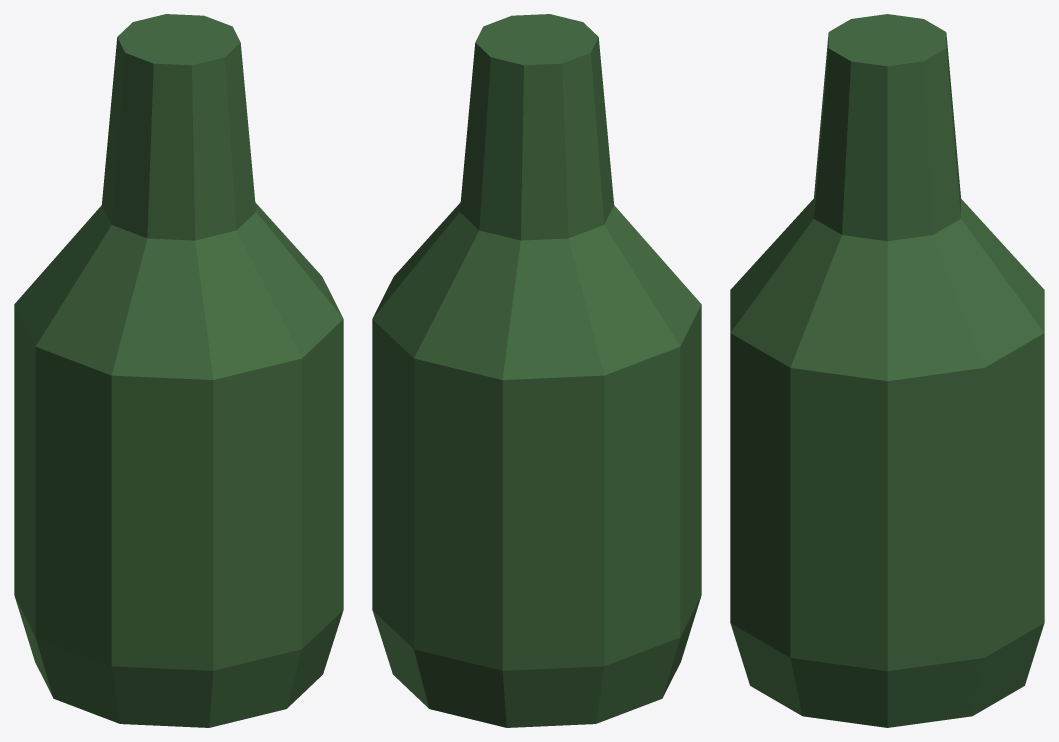
File: cellar-bottle.obj
3 renders of one model, left to right at view 1: azimuth 30°, elevation 25°; view 2: azimuth 150°, elevation 25°; view 3: azimuth 270°, elevation 25°, orthographic.
Bounding box in the file's own units: 0.32 × 0.67 × 0.3043.
